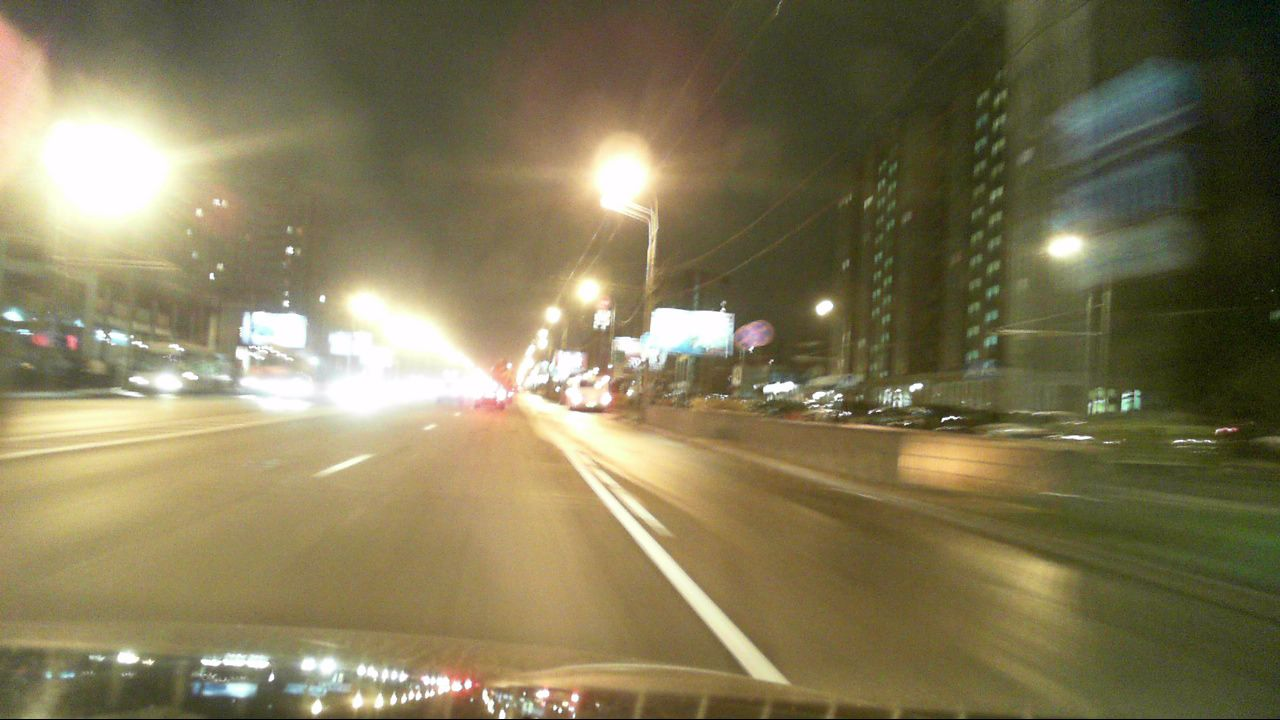No Parking: (746, 320, 773, 347)
